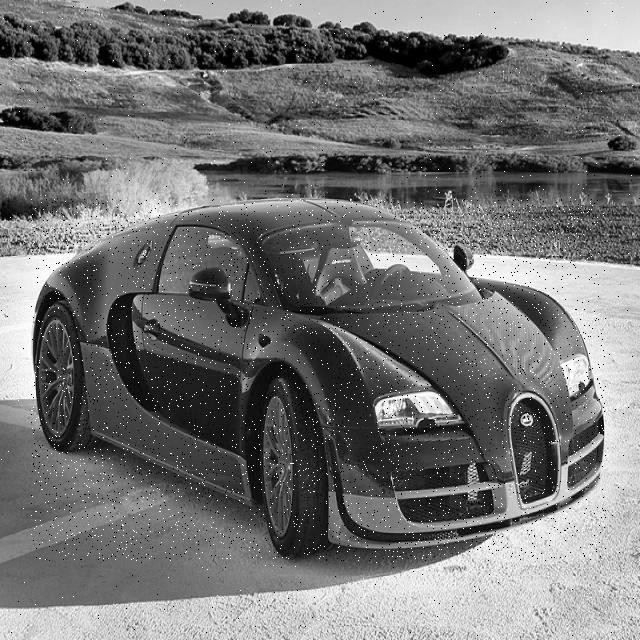Sedan: (31, 199, 606, 561)
